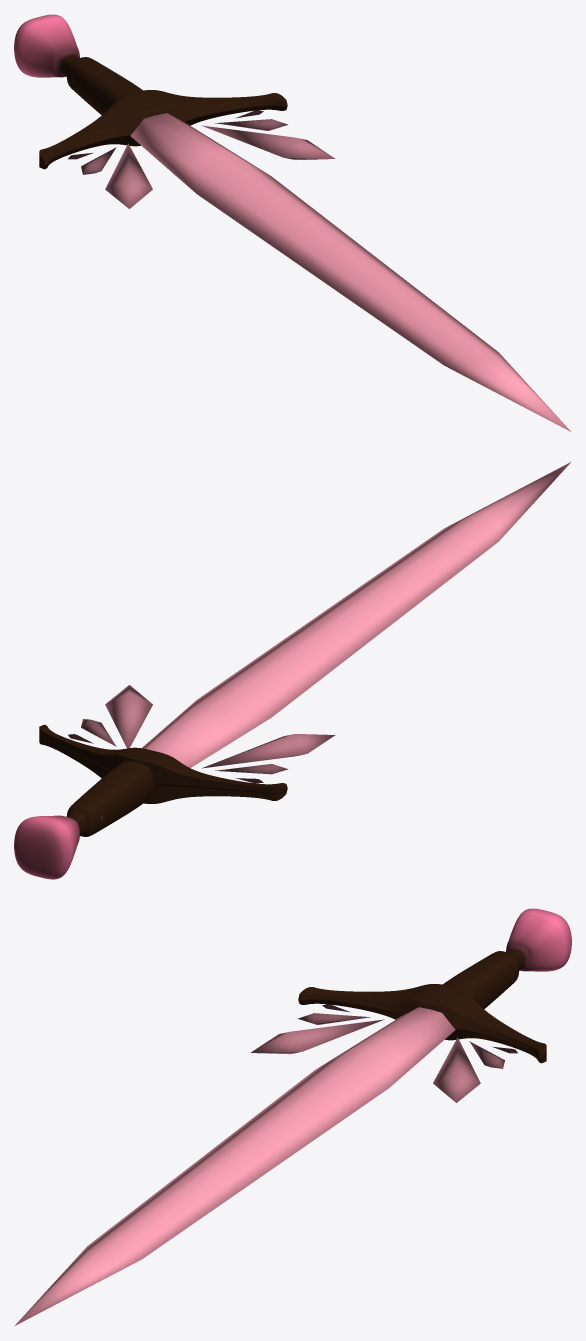
3 renders of one model, top to bottom at view 1: azimuth 30°, elevation 25°; view 2: azimuth 150°, elevation 25°; view 3: azimuth 330°, elevation 25°, orthographic.
Parts seen in each view (by area): view 1: 剑; view 2: 剑; view 3: 剑.
Boxes of the visible parts, box(x1,y1,x2,y2) form: 剑: box(14, 14, 570, 431); 剑: box(14, 462, 570, 879); 剑: box(15, 908, 571, 1325).
Bounding box in the file's own units: 26.4 × 5.8 × 101.
Materials: 6 (1 with a texture image).
